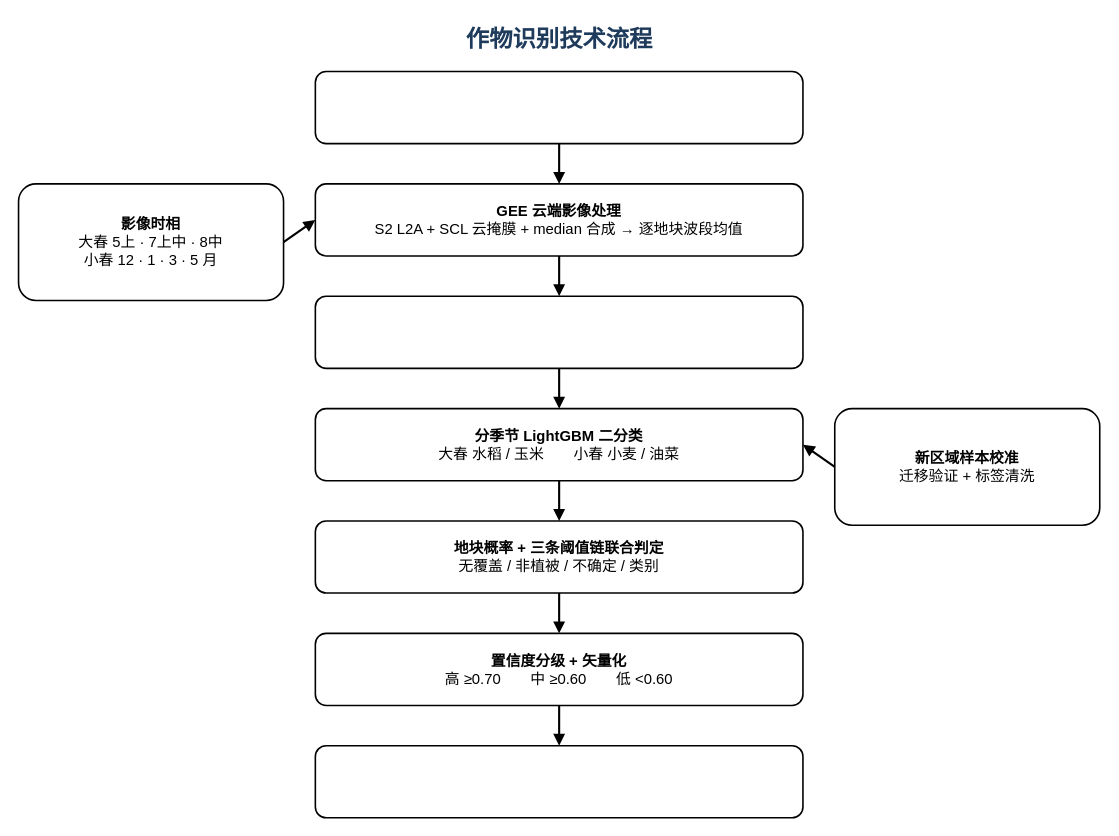
This 1119x836 diagram has some shape labels left out. Here are the shapes that lost their labels. From the top down, the box of each, then its label:
(314, 70, 803, 144): 前序：0.5 m 高分影像 耕地 / 水体地块层（SHP）
(314, 295, 803, 369): 特征工程 光谱 + 植被指数 + 时序统计 + 物候 + 花敏感指数
(314, 744, 803, 818): 产出 地块赋值层 / 质检明细 / 交付九列 xlsx / 预览图
